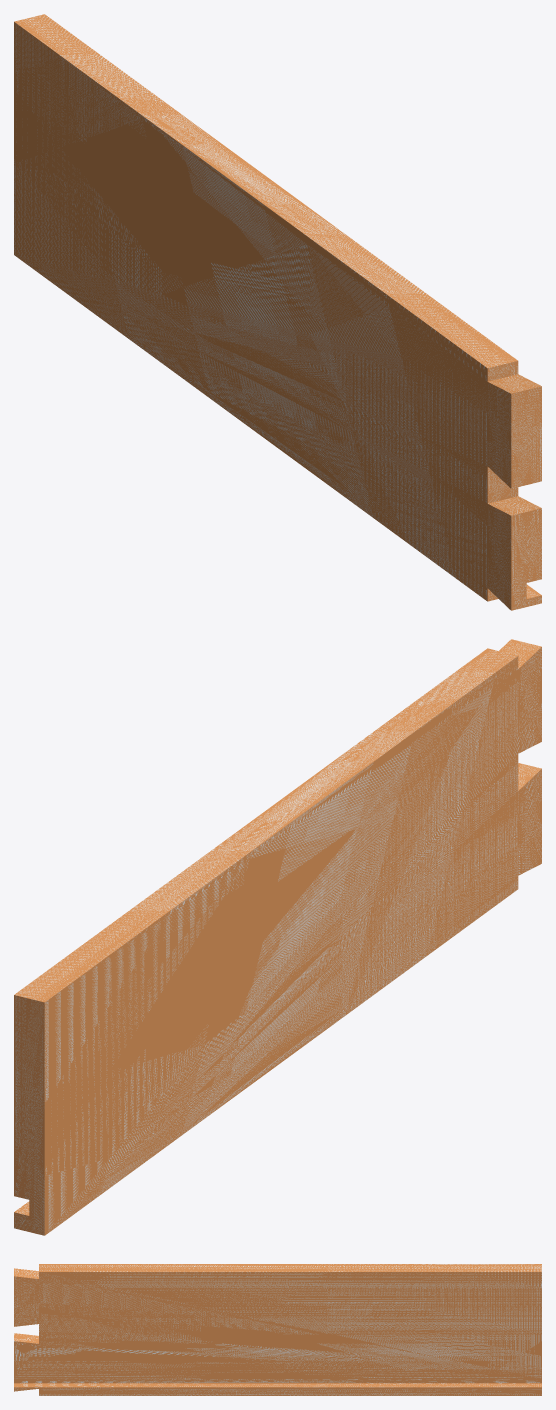
File: original-39.obj
3 views of the same model, one above another, from view 1: azimuth 30°, elevation 25°; view 2: azimuth 150°, elevation 25°; view 3: azimuth 270°, elevation 25° (orthographic). The views are drawn at different scales.
Parts seen in each view (by area): view 1: Drawer_Side2/Drawer_Side12/mesh21/mesh21-geometry#mesh21-geometr; view 2: Drawer_Side2/Drawer_Side12/mesh21/mesh21-geometry#mesh21-geometr; view 3: Drawer_Side2/Drawer_Side12/mesh21/mesh21-geometry#mesh21-geometr.
Boxes of the visible parts, x1,y1,x2,y2 form: Drawer_Side2/Drawer_Side12/mesh21/mesh21-geometry#mesh21-geometr: [14, 14, 541, 610]; Drawer_Side2/Drawer_Side12/mesh21/mesh21-geometry#mesh21-geometr: [14, 639, 541, 1235]; Drawer_Side2/Drawer_Side12/mesh21/mesh21-geometry#mesh21-geometr: [14, 1264, 541, 1395].
Bounding box in the file's own units: 0.0147 × 0.1065 × 0.4114.
